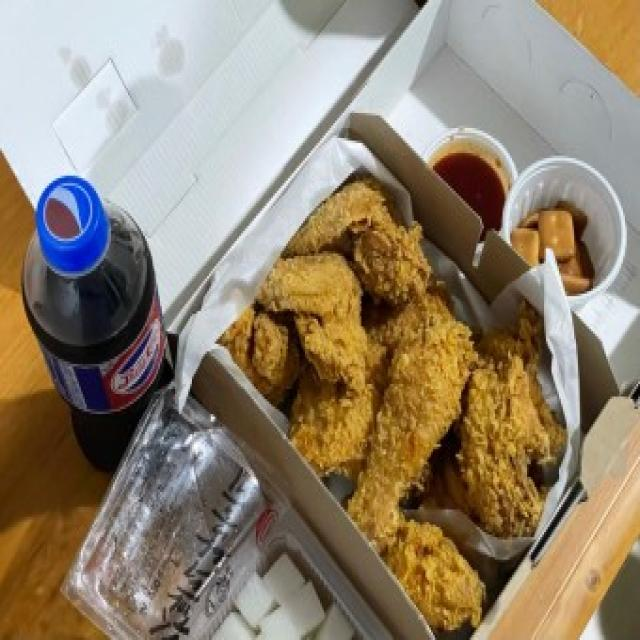Frango: (198, 174, 595, 640)
